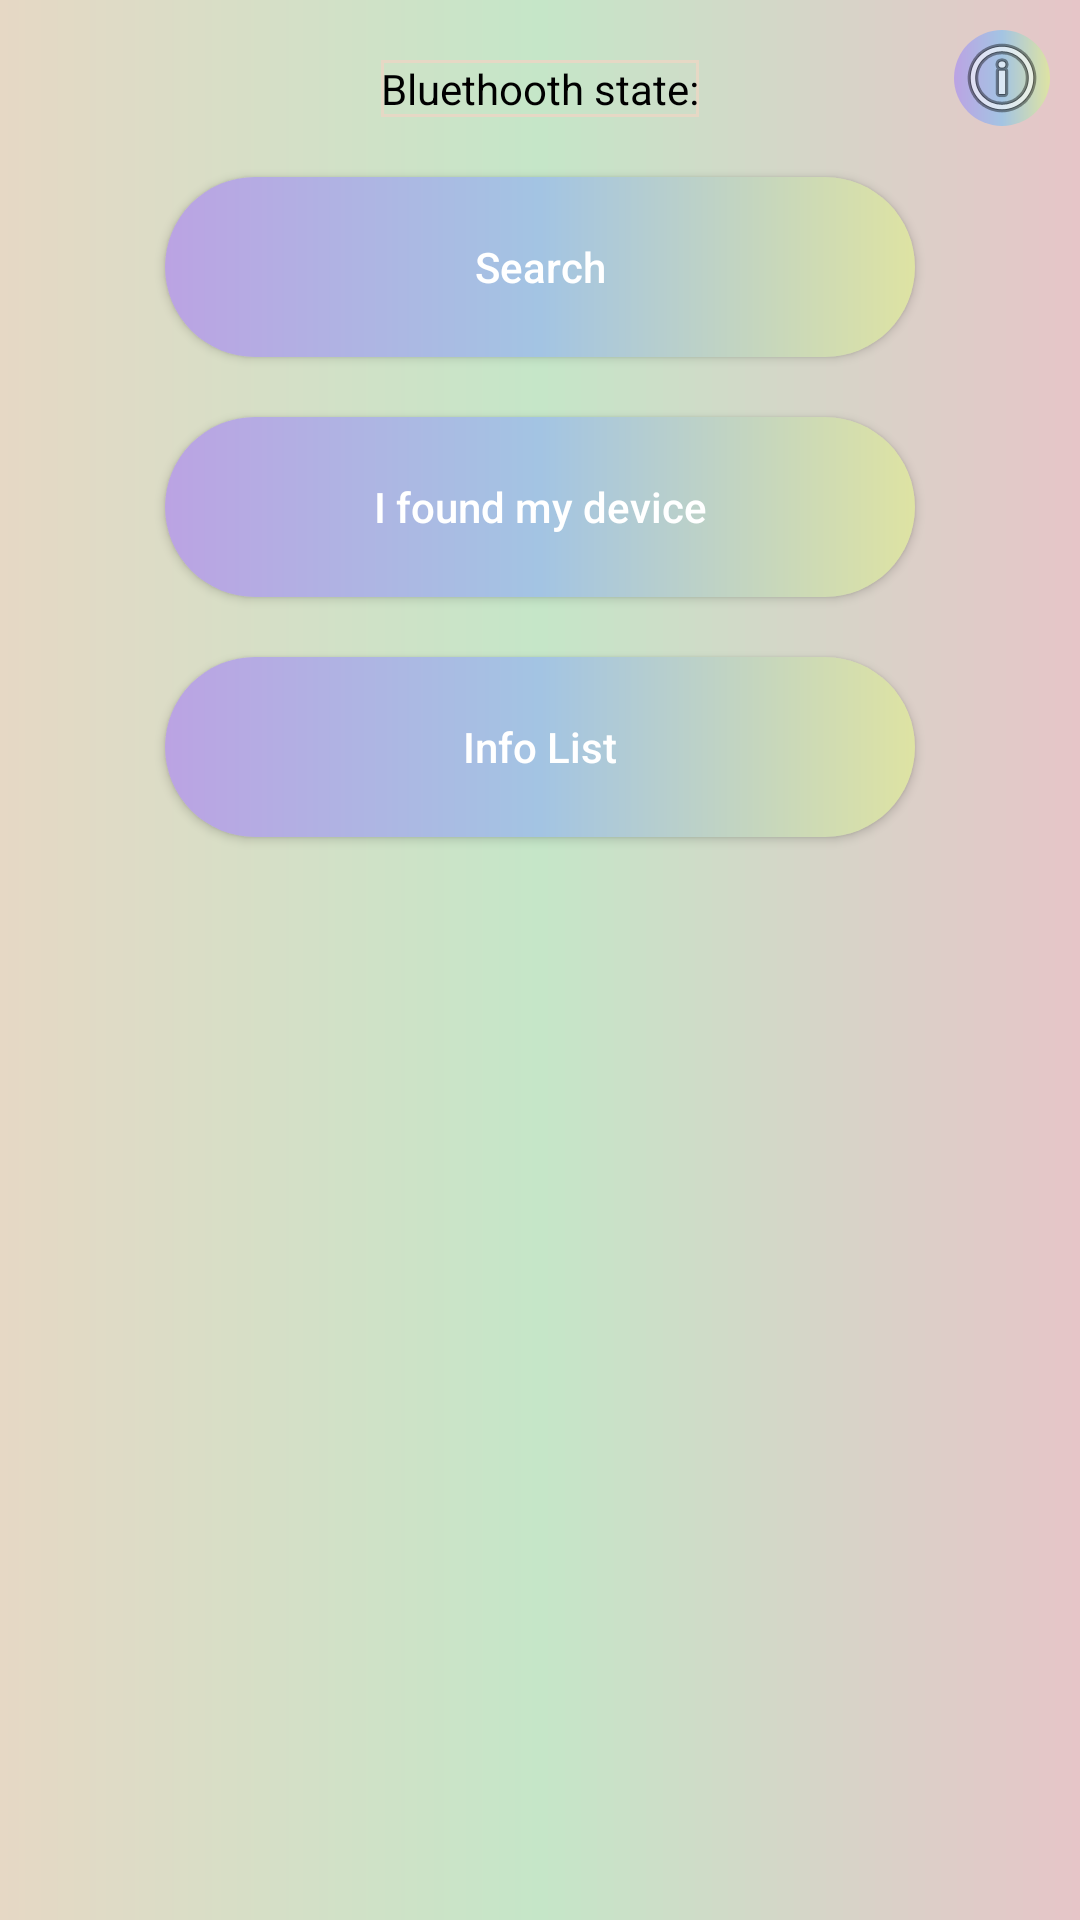

Icons on this 1080 × 1920 Android screen, each with the point to tap as (x,y):
info details: (1002,78)
